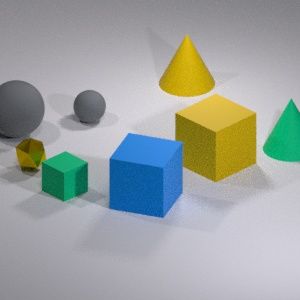lapphuong: (169, 95, 262, 181), (105, 131, 182, 219), (39, 147, 92, 203)
lucgiac: (17, 137, 45, 174)
non: (149, 31, 217, 101), (262, 91, 300, 166)
tron: (0, 78, 47, 141), (64, 89, 111, 126)
